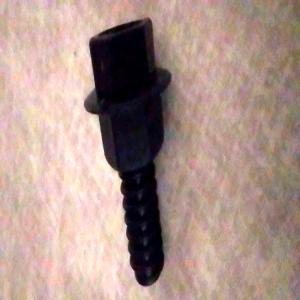parafuso: (81, 6, 170, 292)
